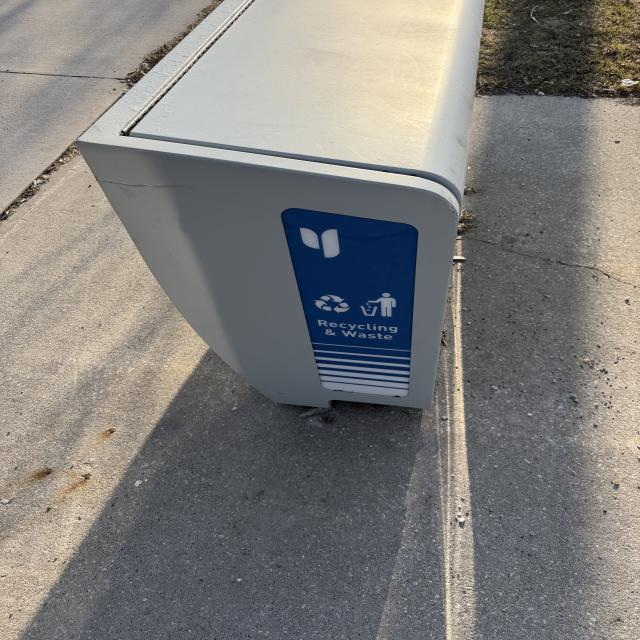Dustbin: (77, 0, 489, 415)
